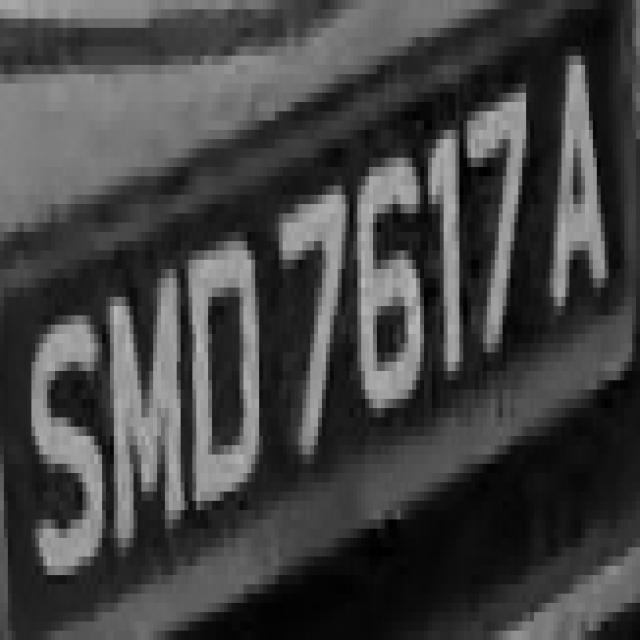1: (420, 84, 475, 418)
6: (338, 130, 420, 454)
7: (267, 148, 346, 473), (456, 65, 530, 399)
A: (534, 37, 616, 343)
D: (185, 204, 267, 529)
M: (90, 260, 184, 547)
S: (20, 288, 110, 575)
